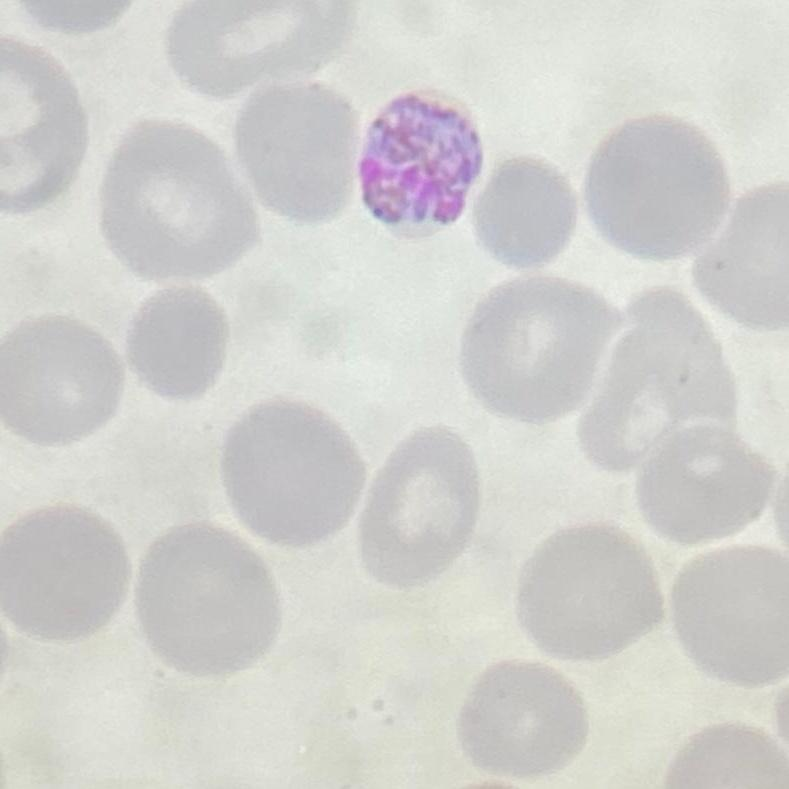Infected: (362, 83, 487, 241)
Uninfected: (94, 117, 257, 284), (510, 519, 675, 673), (130, 523, 287, 676), (464, 271, 617, 424), (222, 399, 369, 548), (358, 421, 487, 588), (582, 113, 726, 261), (0, 505, 134, 654), (232, 79, 355, 228), (574, 327, 706, 464), (164, 0, 355, 94), (674, 539, 787, 693), (630, 417, 769, 542), (454, 655, 593, 773), (0, 317, 127, 446), (0, 41, 86, 218), (698, 179, 789, 328), (474, 153, 581, 268), (130, 285, 225, 397)
